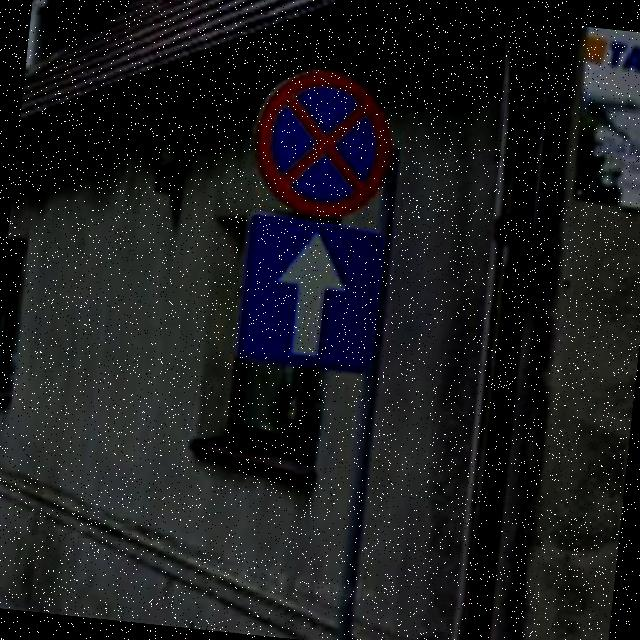Zakaz zatrzymywania sie: (244, 60, 398, 226)
